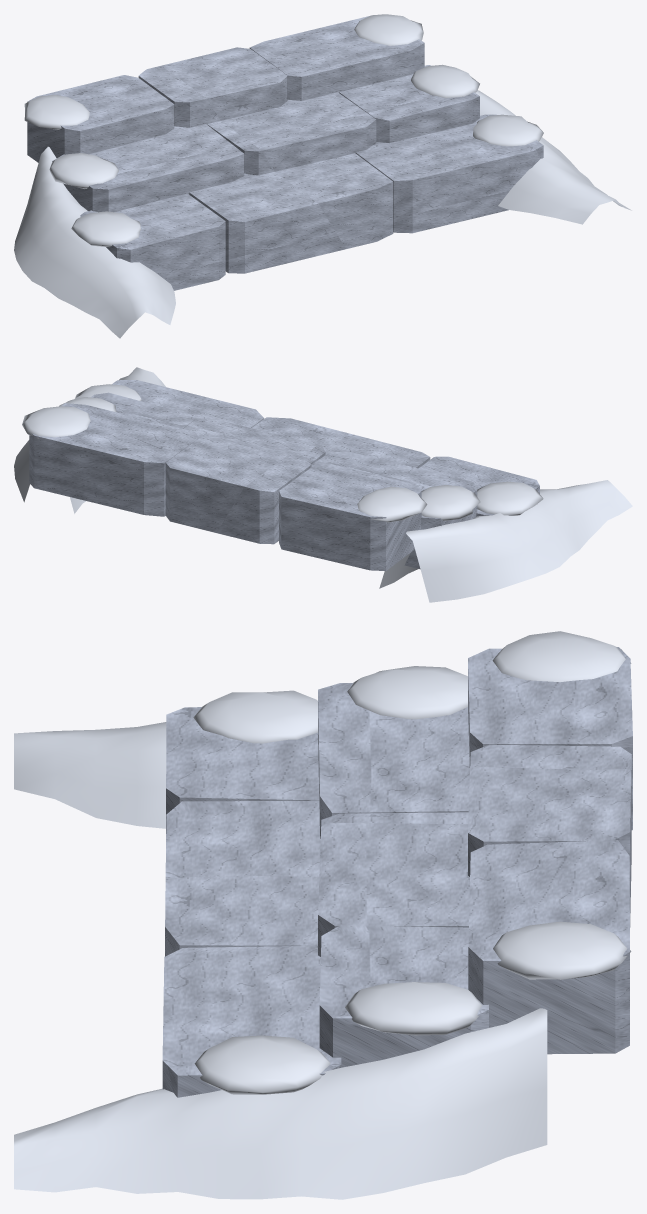
The model's file is carousel-swept-landing.glb.
3 renders of one model, top to bottom at view 1: azimuth 30°, elevation 25°; view 2: azimuth 150°, elevation 25°; view 3: azimuth 270°, elevation 25°, orthographic. The views are drawn at different scales.
Parts seen in each view (by area): view 1: carousel-swept-landing; view 2: carousel-swept-landing; view 3: carousel-swept-landing.
Boxes of the visible parts, x1,y1,x2,y2 form: carousel-swept-landing: (14,14,631,338); carousel-swept-landing: (14,367,632,602); carousel-swept-landing: (14,631,632,1199).
Bounding box in the file's own units: 3.36 × 0.648 × 1.91.
3 materials, 2 textured.
